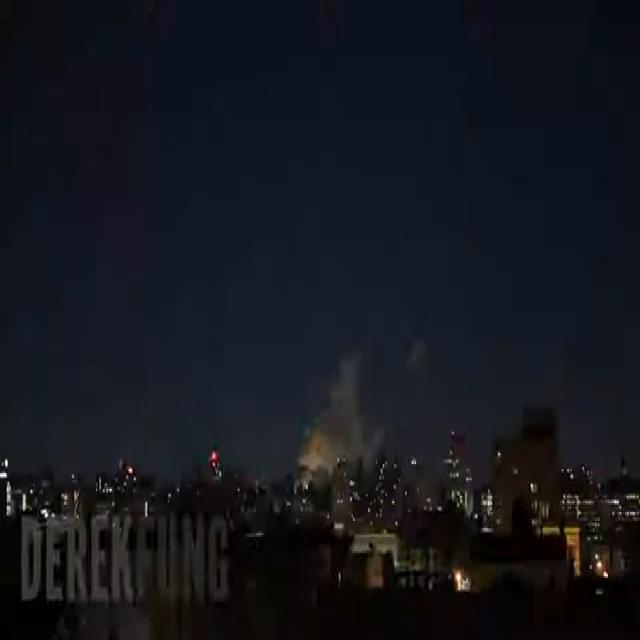smoke: (298, 359, 381, 471), (406, 341, 426, 363)
